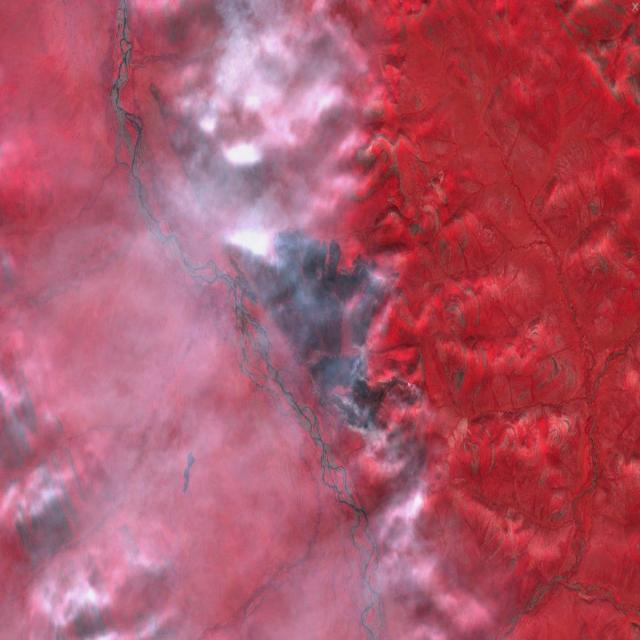fire: (306, 265, 414, 438)
